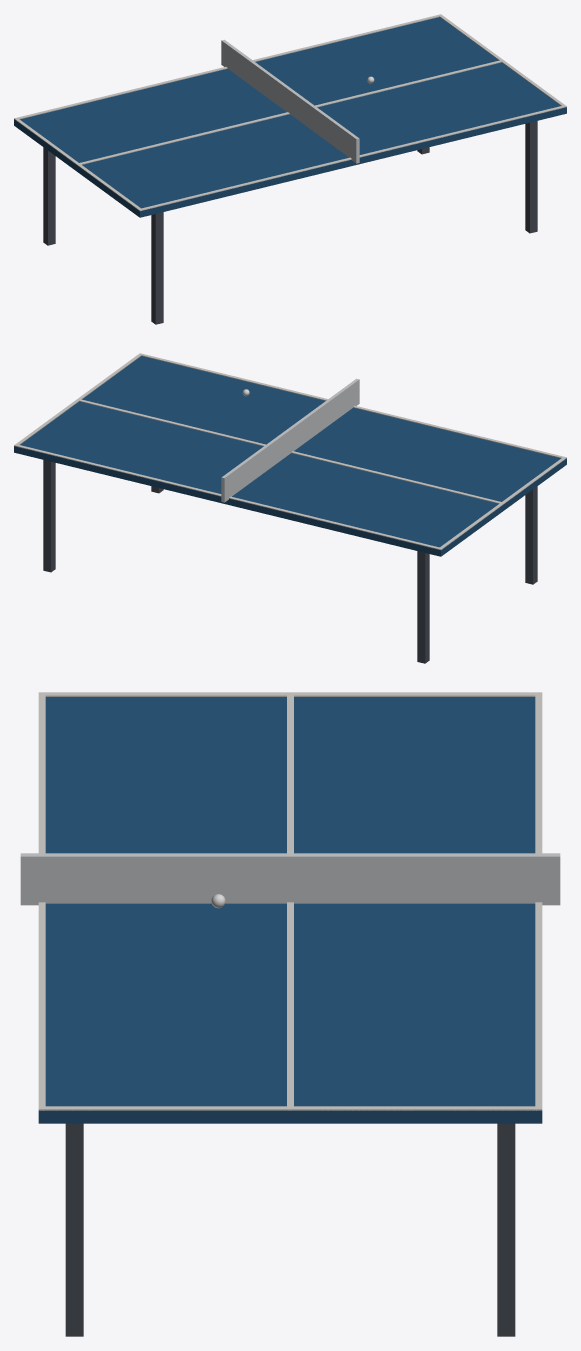
Rendered from pingue-pongue.glb.
3 renders of one model, top to bottom at view 1: azimuth 30°, elevation 25°; view 2: azimuth 150°, elevation 25°; view 3: azimuth 270°, elevation 25°, orthographic. The views are drawn at different scales.
Parts seen in each view (by area): view 1: pingue-pongue_malha; view 2: pingue-pongue_malha; view 3: pingue-pongue_malha.
Part boxes in pixels (x1,y1,x2,y2): pingue-pongue_malha: [14, 14, 566, 324]; pingue-pongue_malha: [14, 353, 566, 663]; pingue-pongue_malha: [20, 692, 560, 1336].
Size of the model in its own units: 2.74 by 0.97 by 1.5.
